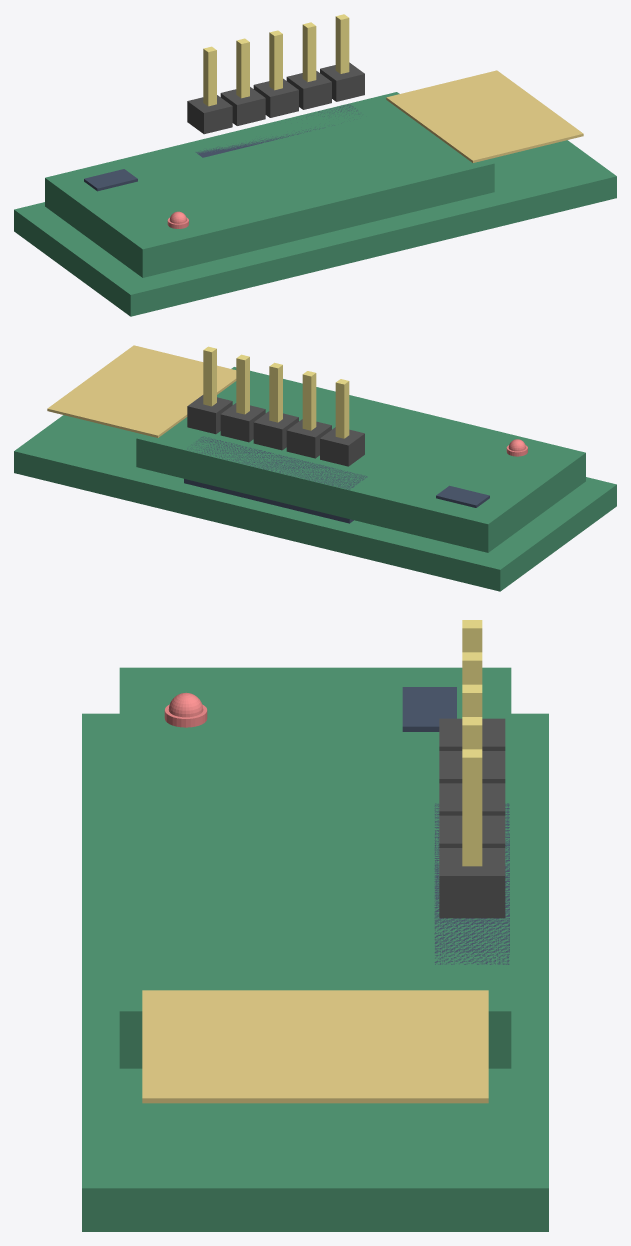
The model's file is hc-06-bluetooth.glb.
The picture shows the model from 3 angles, top to bottom: view 1: azimuth 30°, elevation 25°; view 2: azimuth 150°, elevation 25°; view 3: azimuth 270°, elevation 25°; orthographic projection. The views are drawn at different scales.
Parts seen in each view (by area): view 1: hc-06-bluetooth_mesh; view 2: hc-06-bluetooth_mesh; view 3: hc-06-bluetooth_mesh.
Part boxes in pixels (<box>): hc-06-bluetooth_mesh: <box>14,14,616,316</box>; hc-06-bluetooth_mesh: <box>14,345,616,591</box>; hc-06-bluetooth_mesh: <box>82,620,548,1231</box>.
Size of the model in its own units: 37.3 by 11.2 by 15.5.
